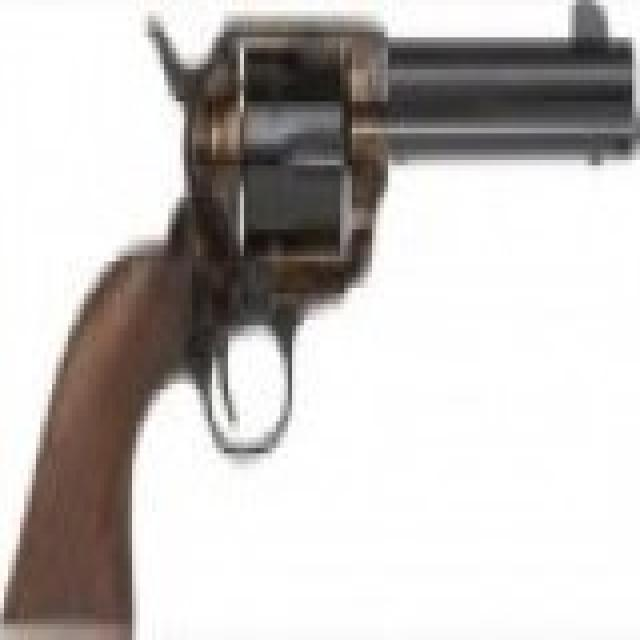Gun: (12, 11, 640, 634)
